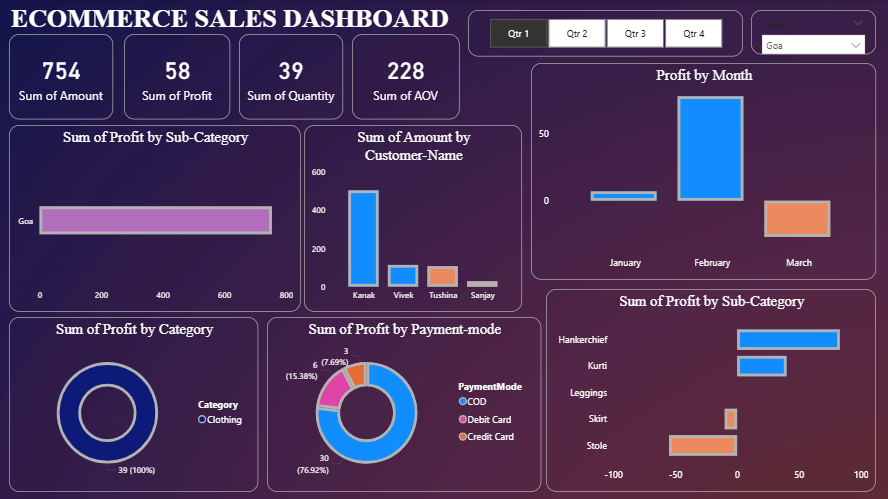

The page's visual inventory and layout, read from the dashboard file:
{"tool":"powerbi","page":{"name":"Page 1","canvas":[1280,720],"ordinal":0},"visuals":[{"type":"textbox","box":[0,0,661.8,67.2],"z":0},{"type":"columnChart","title":"Profit by Month","fields":{"Y":["Sum(Details.Profit)"],"Category":["Orders.Order Date.Variation.Date Hierarchy.Month"]},"box":[764.3,90.7,497.2,312.4],"z":1000},{"type":"barChart","title":"Sum of Profit by Sub-Category","fields":{"Y":["Sum(Details.Profit)"],"Category":["Details.Sub-Category"]},"box":[786.1,416.6,475.4,292.3],"z":2000},{"type":"donutChart","title":"Sum of Profit by Category","fields":{"Y":["Sum(Details.Quantity)"],"Category":["Details.Category"]},"box":[13.4,456.9,359.5,252],"z":3000},{"type":"donutChart","title":"Sum of Profit by Payment-mode","fields":{"Y":["Sum(Details.Quantity)"],"Category":["Details.PaymentMode"]},"box":[384.7,456.9,394.8,252],"z":4000},{"type":"card","title":"Sum of Profit by Sub-Category","fields":{"Values":["Sum(Details.Quantity)"]},"box":[344.4,48.7,149.5,122.6],"z":5000},{"type":"card","title":"Sum of Profit by Sub-Category","fields":{"Values":["Sum(Details.Profit)"]},"box":[178.1,48.7,152.9,122.6],"z":6000},{"type":"card","title":"Sum of Profit by Sub-Category","fields":{"Values":["Sum(Details.Amount)"]},"box":[13.4,48.7,149.5,122.6],"z":7000},{"type":"card","title":"Sum of Profit by Sub-Category","fields":{"Values":["Sum(Details.AOV)"]},"box":[507.3,48.7,154.5,122.6],"z":8000},{"type":"barChart","title":"Sum of Profit by Sub-Category","fields":{"Y":["Sum(Details.Amount)"],"Category":["Orders.State"]},"box":[13.4,179.7,419.9,268.8],"z":9000},{"type":"columnChart","title":"Sum of Amount by Customer-Name","fields":{"Category":["Orders.CustomerName"],"Y":["Sum(Details.Amount)"]},"box":[438.4,179.7,314.1,268.8],"z":10000},{"type":"slicer","fields":{"Values":["Orders.State"]},"box":[1081.8,15.1,179.7,63.8],"z":11000},{"type":"slicer","fields":{"Values":["Orders.Order Date.Variation.Date Hierarchy.Quarter"]},"box":[673.6,15.1,396.4,67.2],"z":12000}]}

Visuals, with their boxes in screenshot pixels (x1, y1, x2, y2), scaled from the page's 1280x720 canvas onto the 888x499 screenshot:
textbox: (left=0, top=0, right=459, bottom=47)
"Profit by Month" columnChart: (left=530, top=63, right=875, bottom=279)
"Sum of Profit by Sub-Category" barChart: (left=545, top=289, right=875, bottom=491)
"Sum of Profit by Category" donutChart: (left=9, top=317, right=259, bottom=491)
"Sum of Profit by Payment-mode" donutChart: (left=267, top=317, right=541, bottom=491)
"Sum of Profit by Sub-Category" card: (left=239, top=34, right=343, bottom=119)
"Sum of Profit by Sub-Category" card: (left=124, top=34, right=230, bottom=119)
"Sum of Profit by Sub-Category" card: (left=9, top=34, right=113, bottom=119)
"Sum of Profit by Sub-Category" card: (left=352, top=34, right=459, bottom=119)
"Sum of Profit by Sub-Category" barChart: (left=9, top=125, right=301, bottom=311)
"Sum of Amount by Customer-Name" columnChart: (left=304, top=125, right=522, bottom=311)
slicer - Orders.State: (left=750, top=10, right=875, bottom=55)
slicer - Orders.Order Date.Variation.Date Hierarchy.Quarter: (left=467, top=10, right=742, bottom=57)
